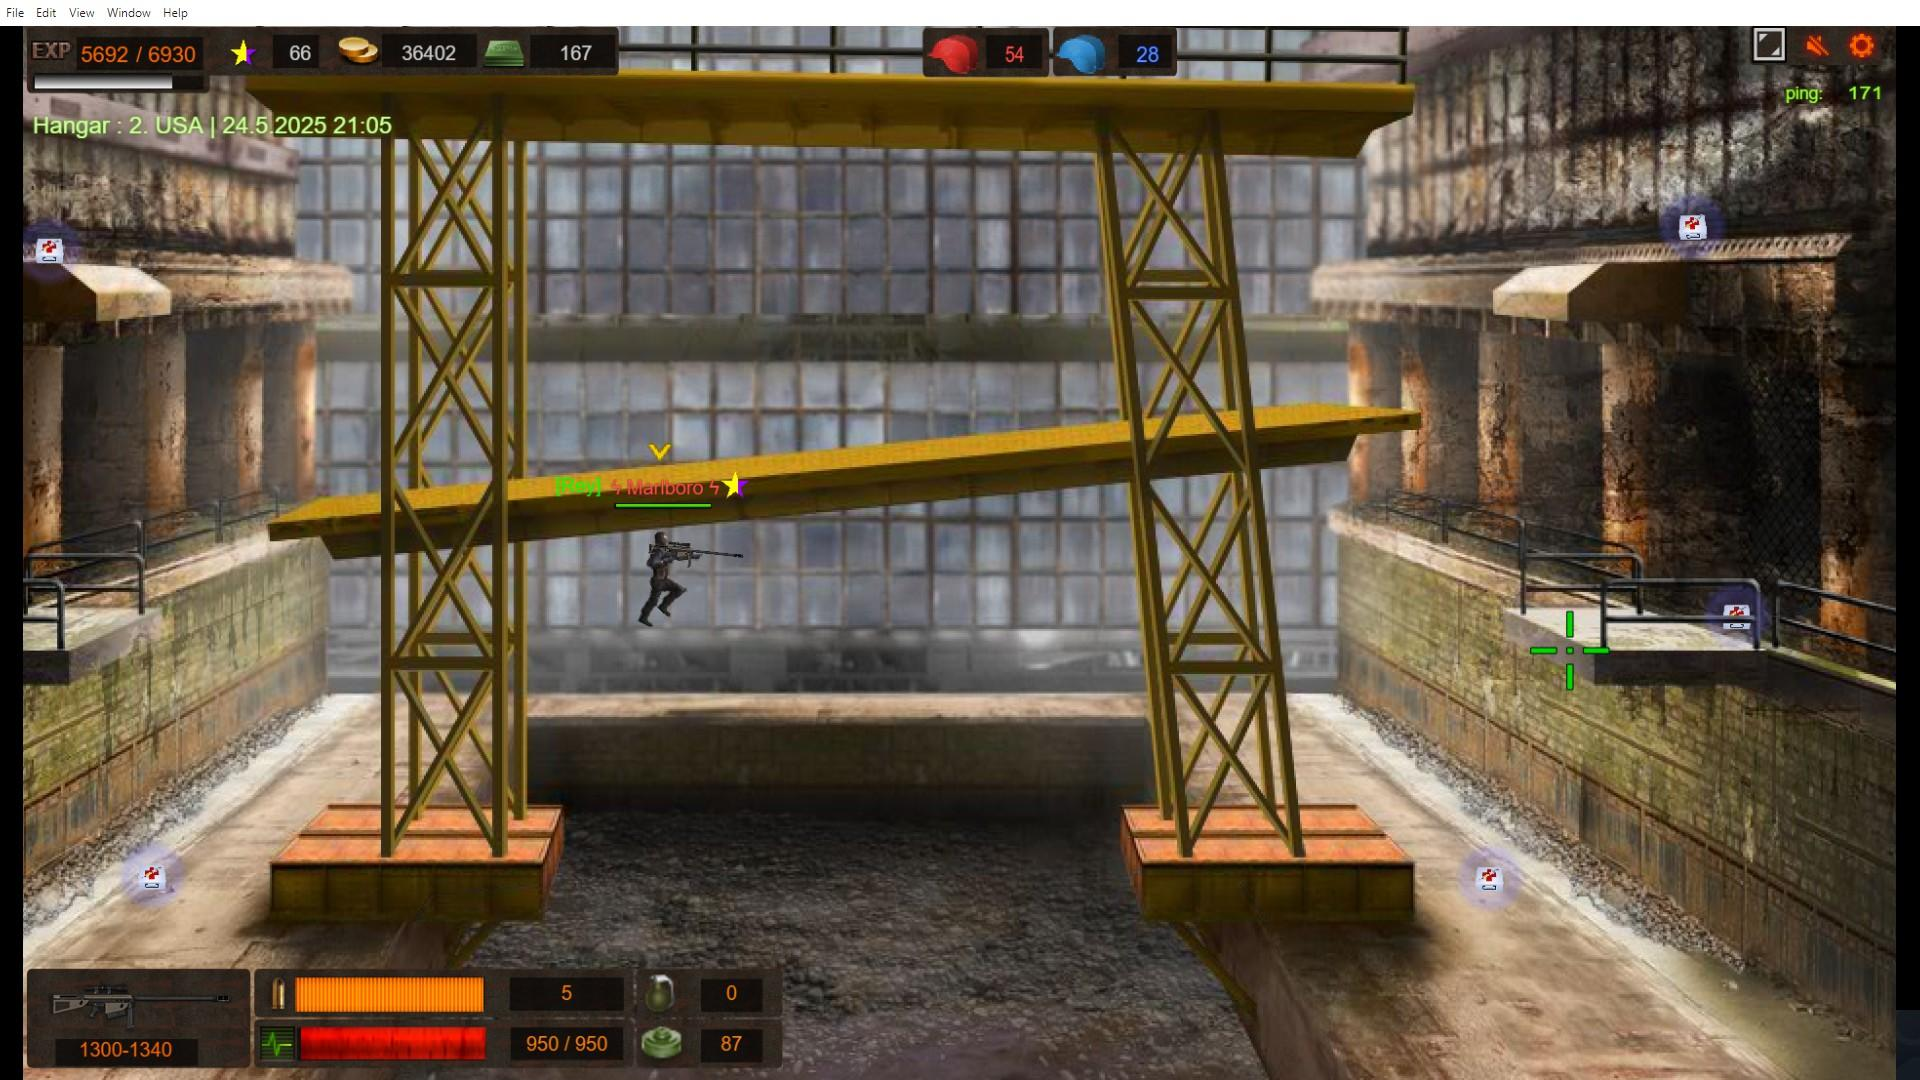enemy: (649, 533, 673, 626)
